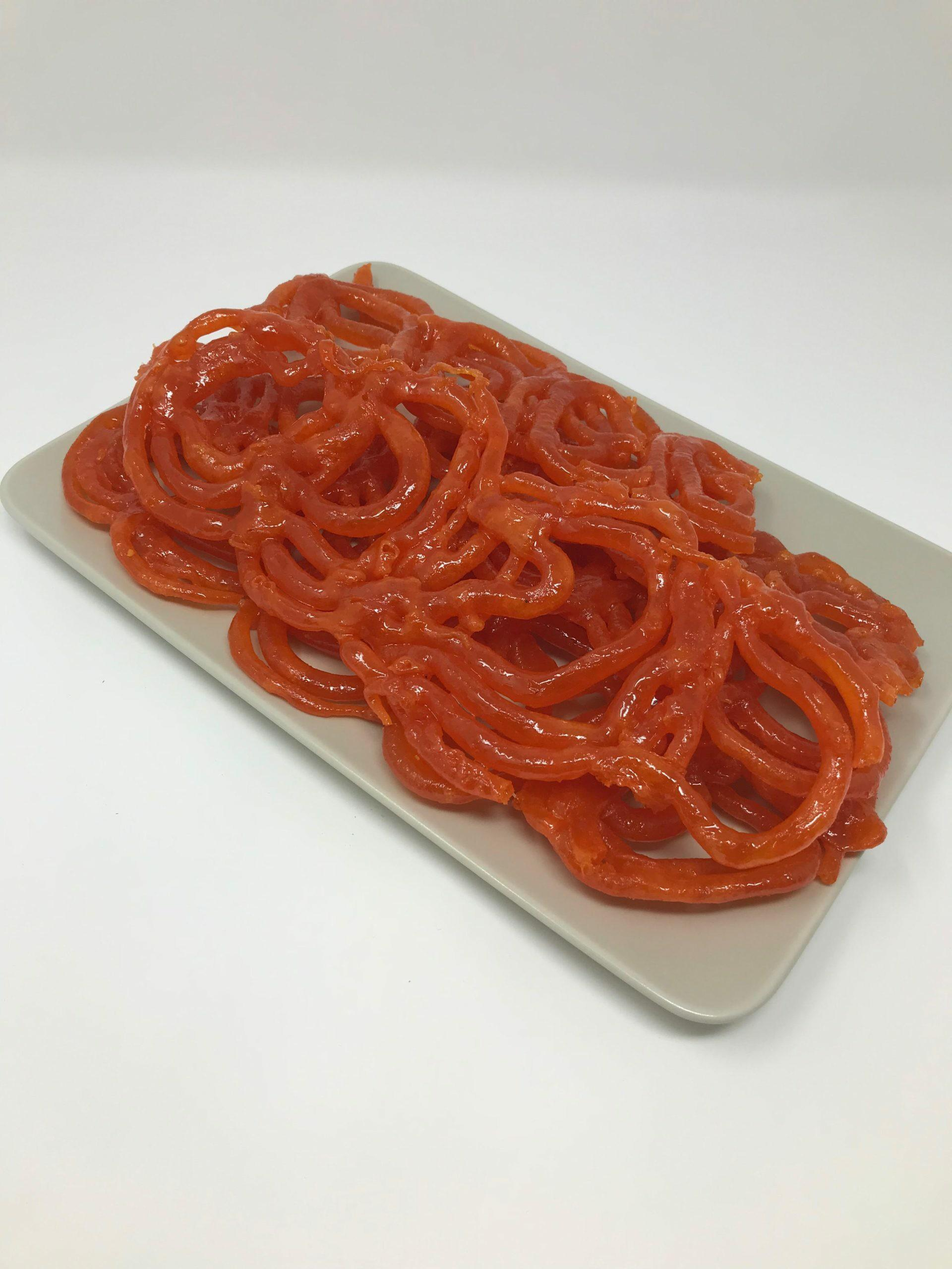Jalebi: (55, 248, 935, 915)
